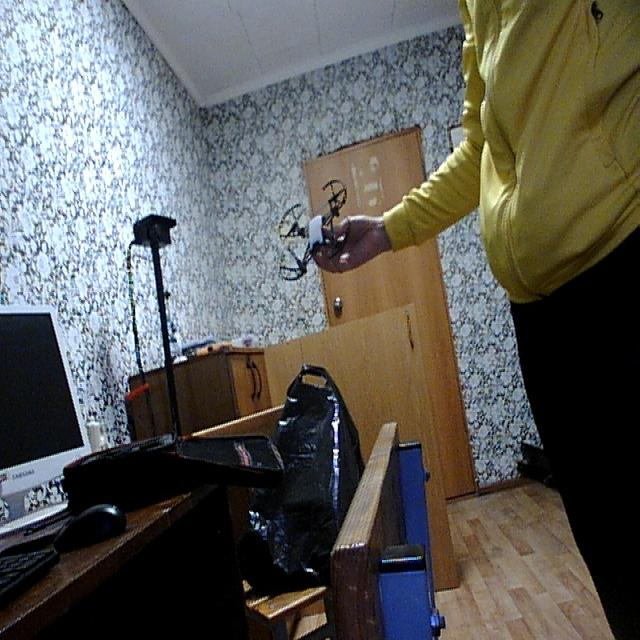drone: (274, 177, 360, 288)
